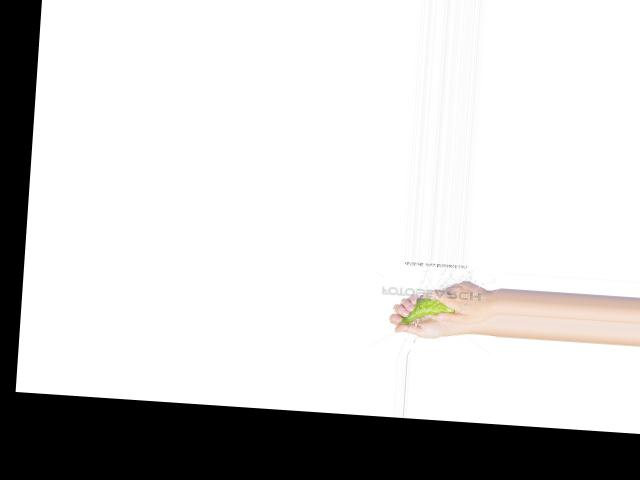cucumber: (399, 295, 457, 327)
